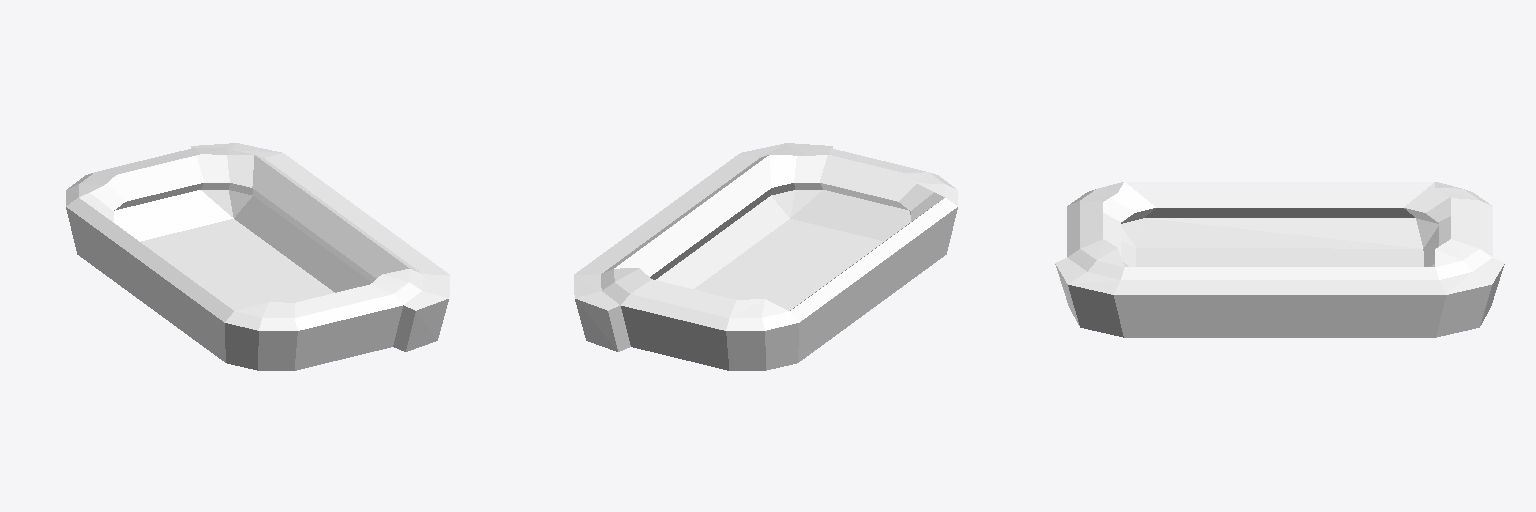
Rendered from BigArena.obj.
3 views of the same model, side by side, from view 1: azimuth 30°, elevation 25°; view 2: azimuth 150°, elevation 25°; view 3: azimuth 270°, elevation 25° (orthographic).
Visible parts, largest first — view 1: BigArena; view 2: BigArena; view 3: BigArena.
Boxes of the visible parts, x1=… form: BigArena: x1=66, y1=143, x2=449, y2=370; BigArena: x1=574, y1=143, x2=957, y2=370; BigArena: x1=1055, y1=182, x2=1504, y2=337.
Size of the model in its own units: 41.86 by 11.48 by 73.58.